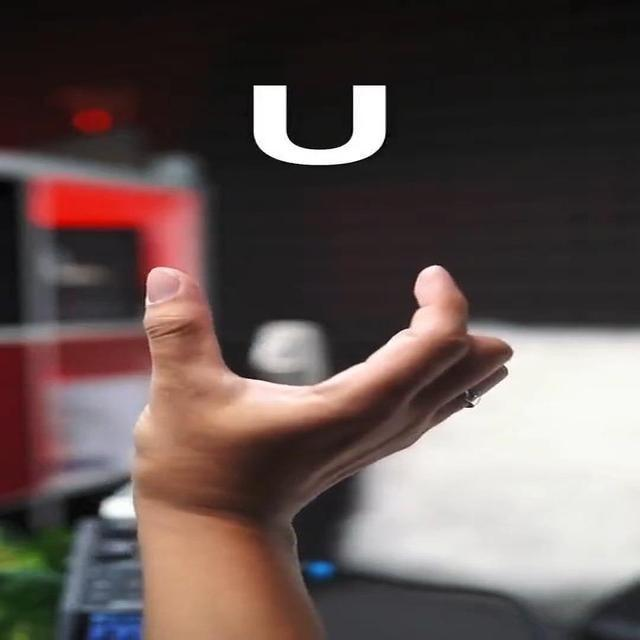U: (119, 258, 522, 526)
